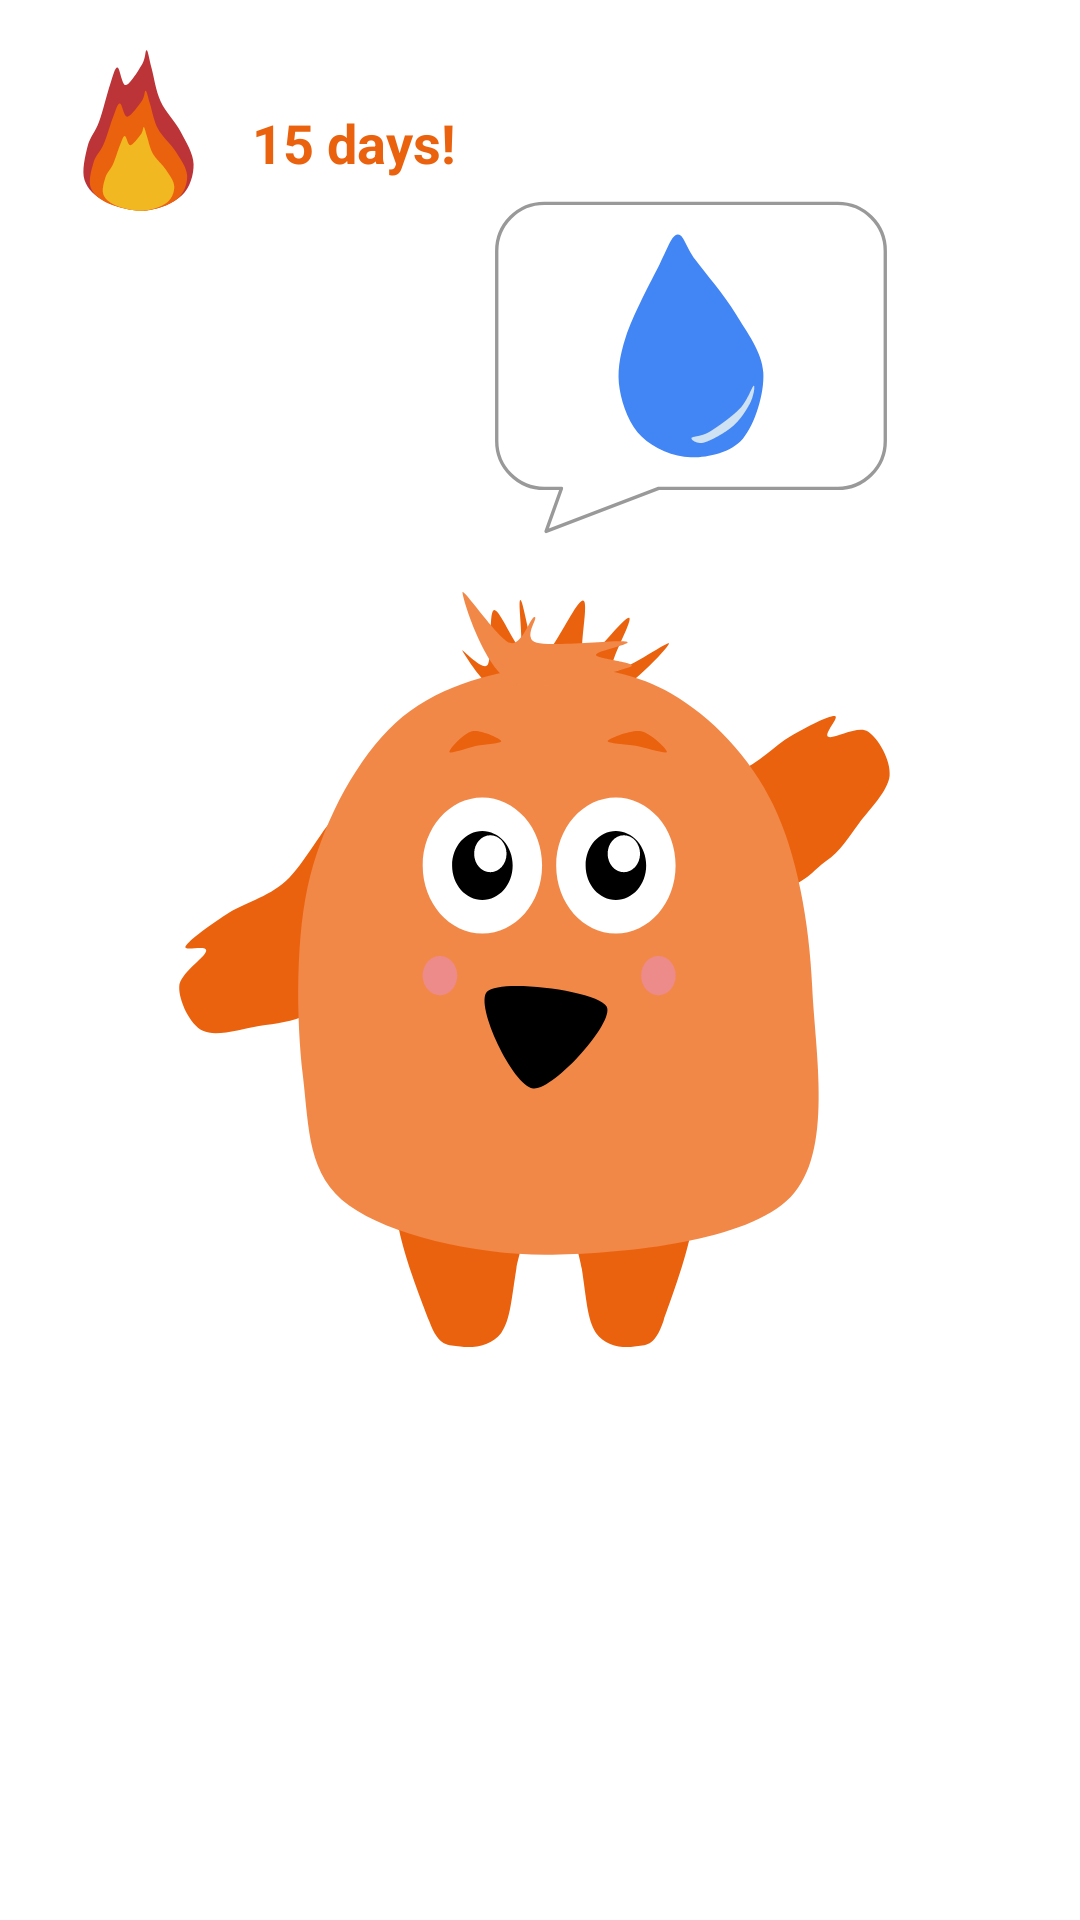

Where to tap for icons on this 1080 x 1920 app screen, as (x=x, y=y):
flame: (x=138, y=130)
